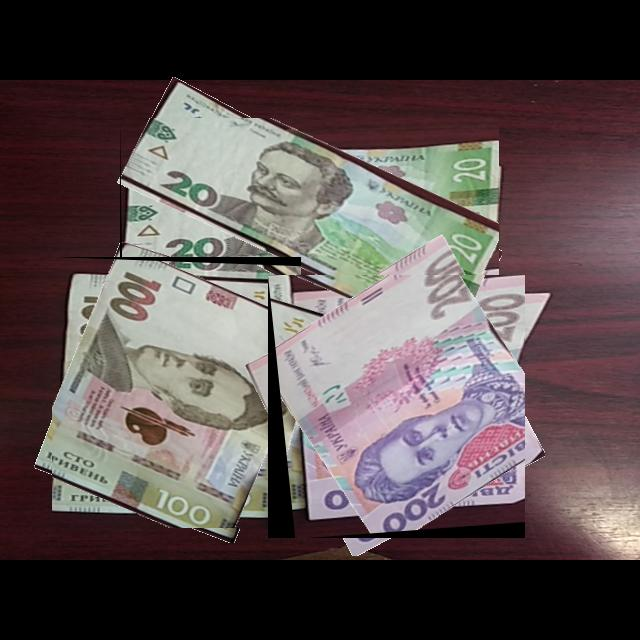100uah: (52, 257, 302, 529)
200uah: (268, 275, 526, 539)
20uah: (120, 118, 500, 318)
